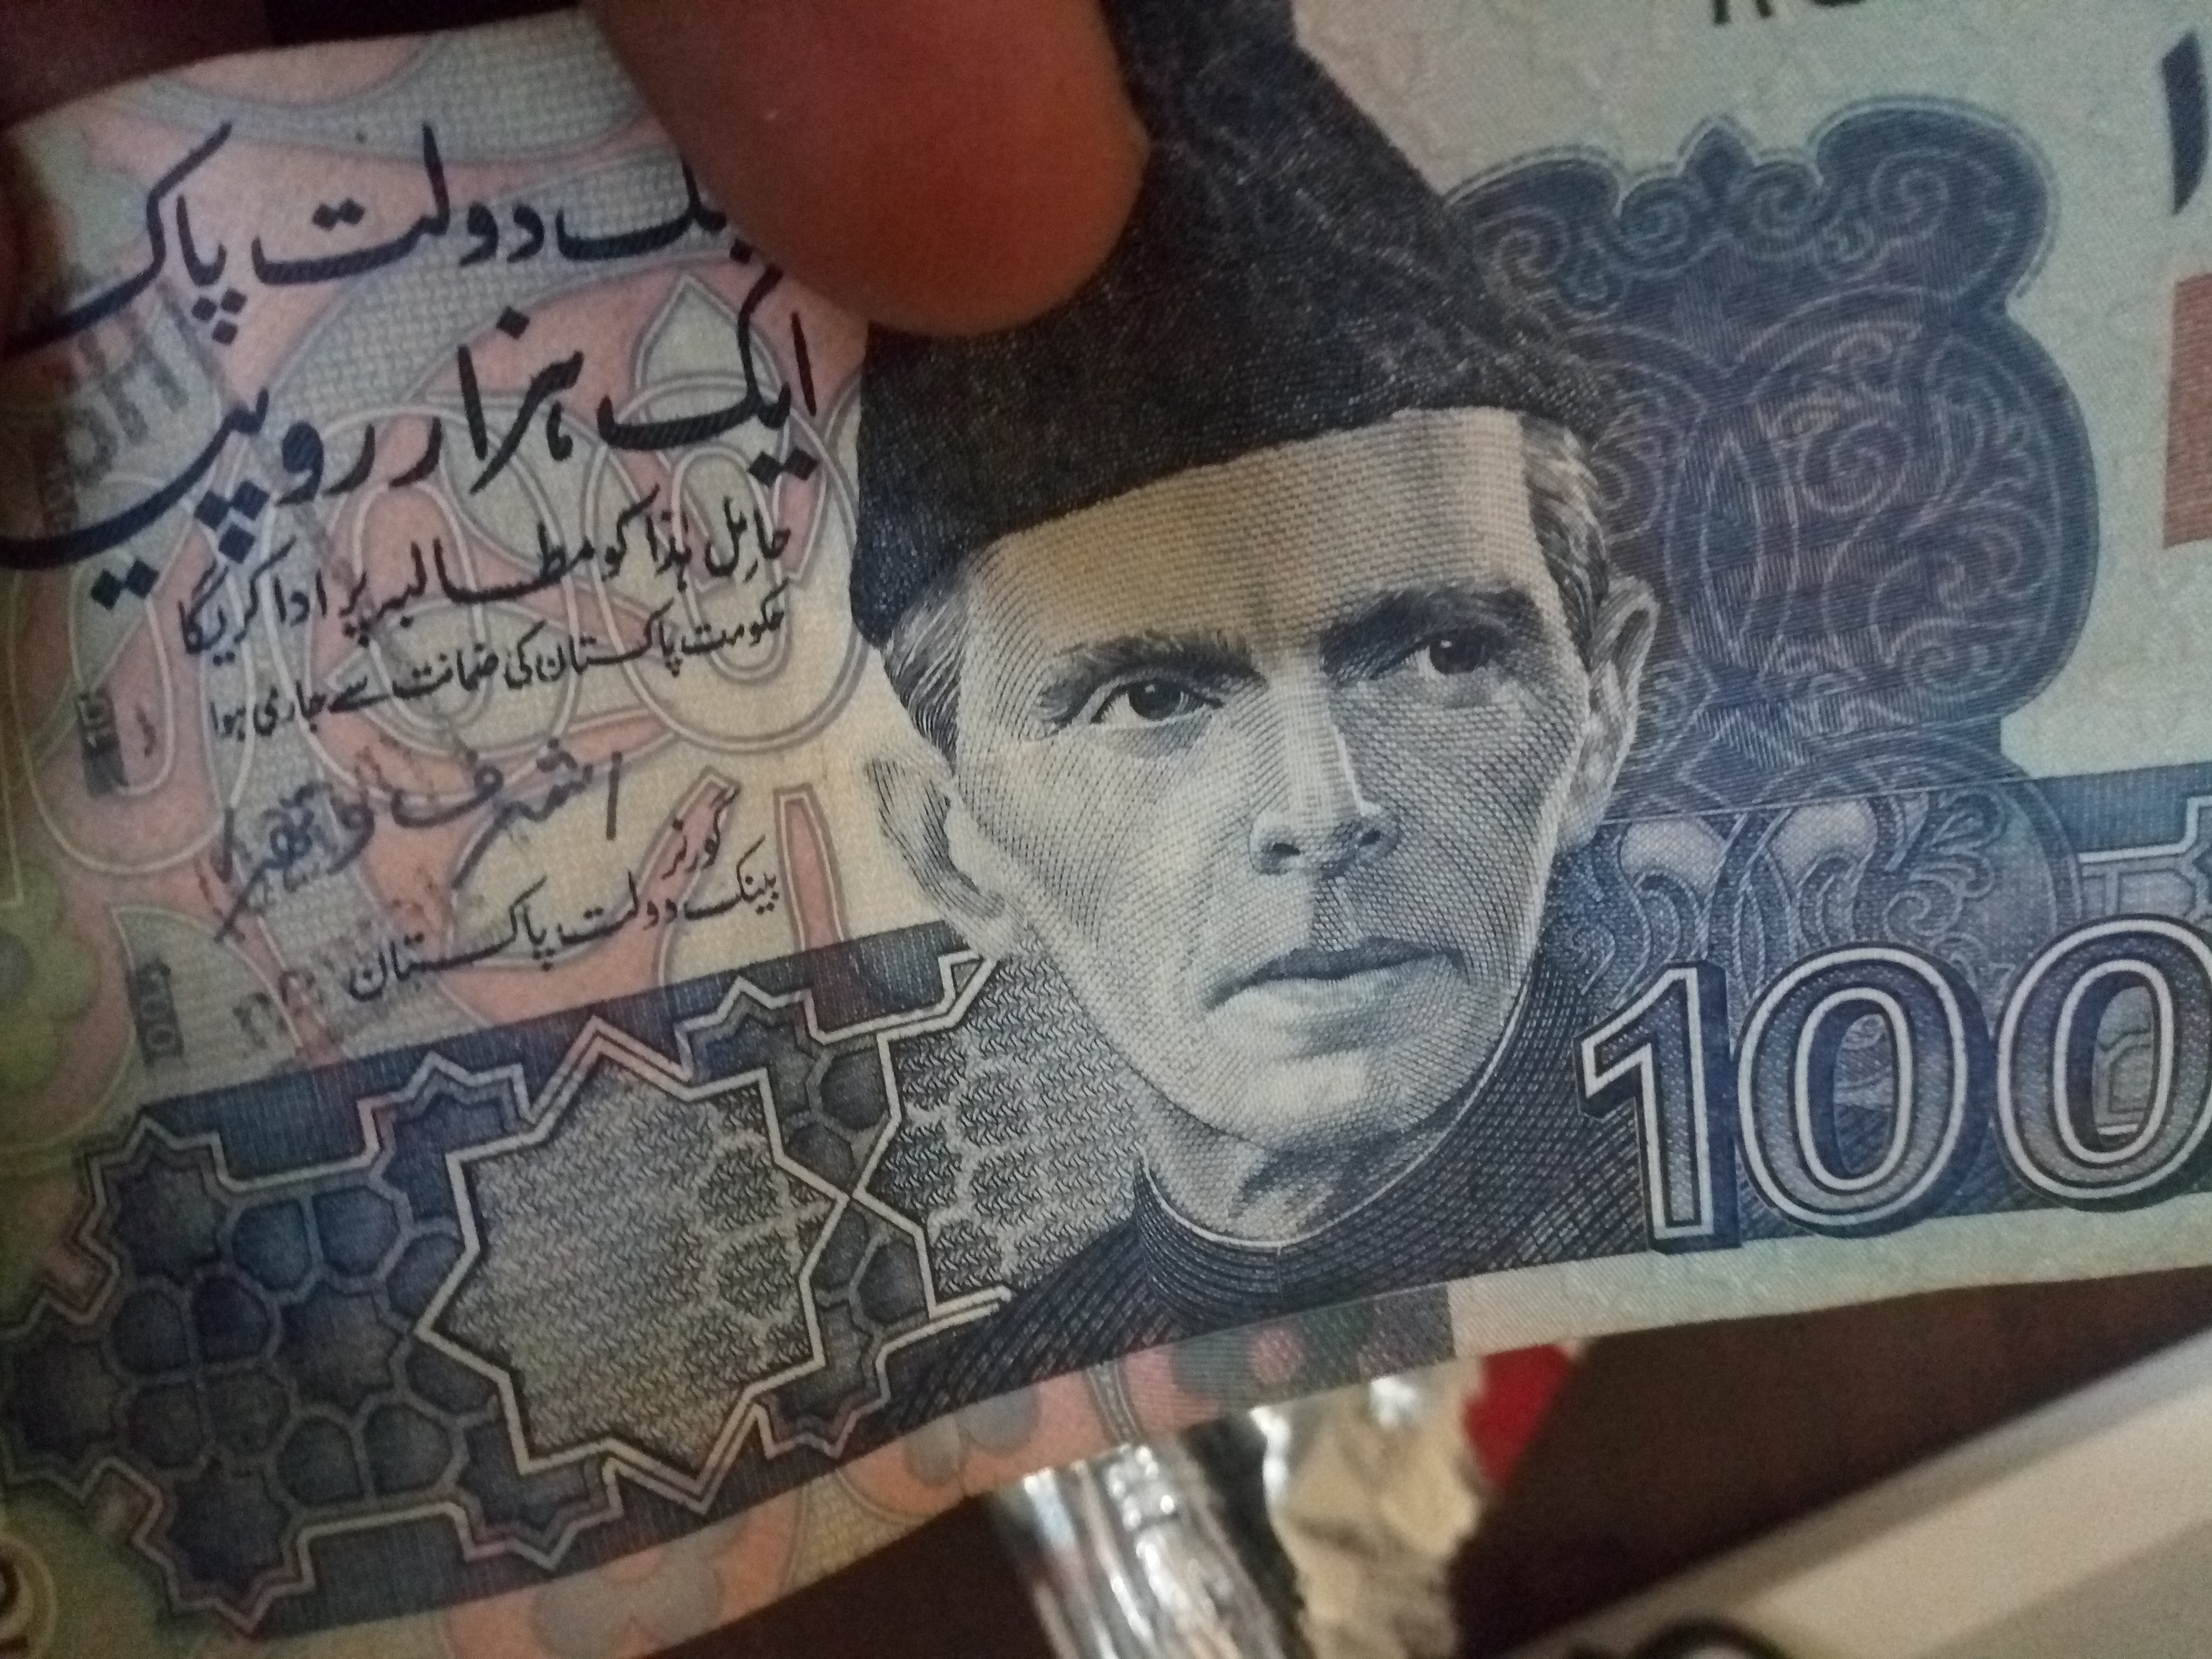1000 rupee: (33, 56, 2207, 1563)
